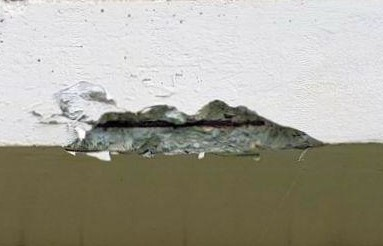Exposed reinforcement: (96, 119, 267, 129)
Spalling: (62, 99, 329, 159)
